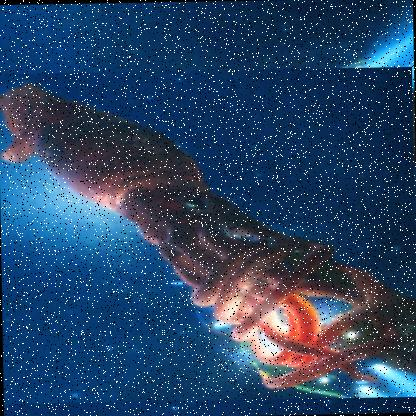colossal_squid: (0, 65, 415, 404)
